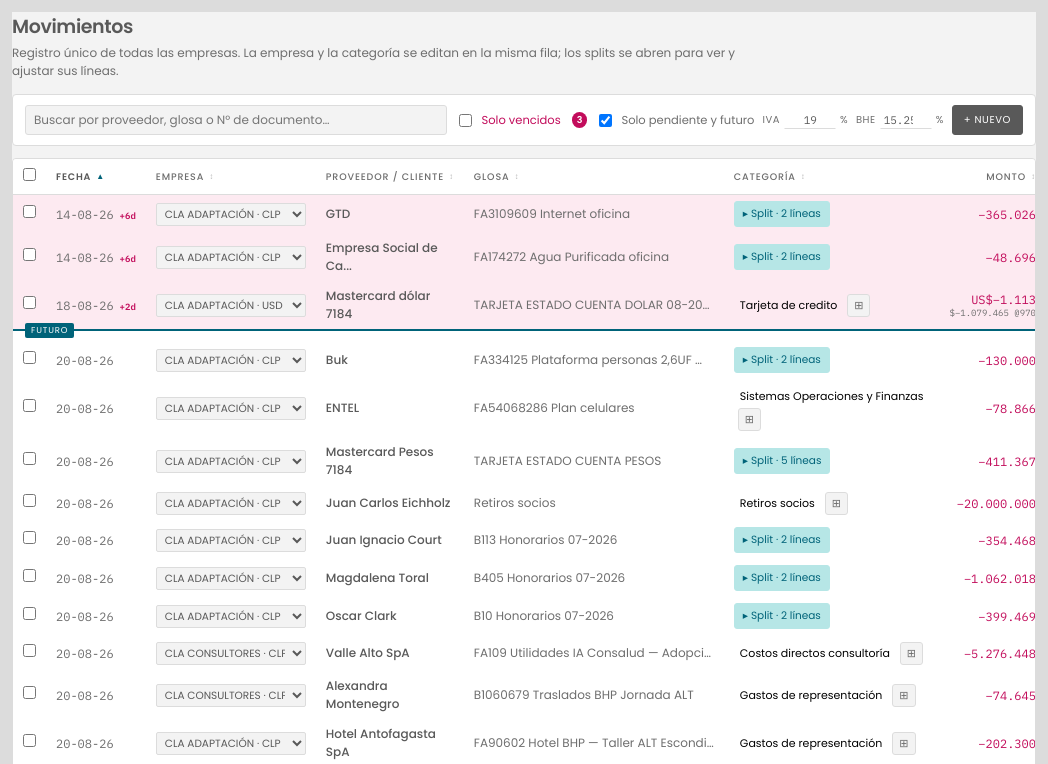
Scenario: Seleccionar y sumar › shift + flechas extiende sin tocar el mouse
Click the checkbox named "Seleccionar GTD del 14-08-26" at (30, 212), box [23,205,36,218]
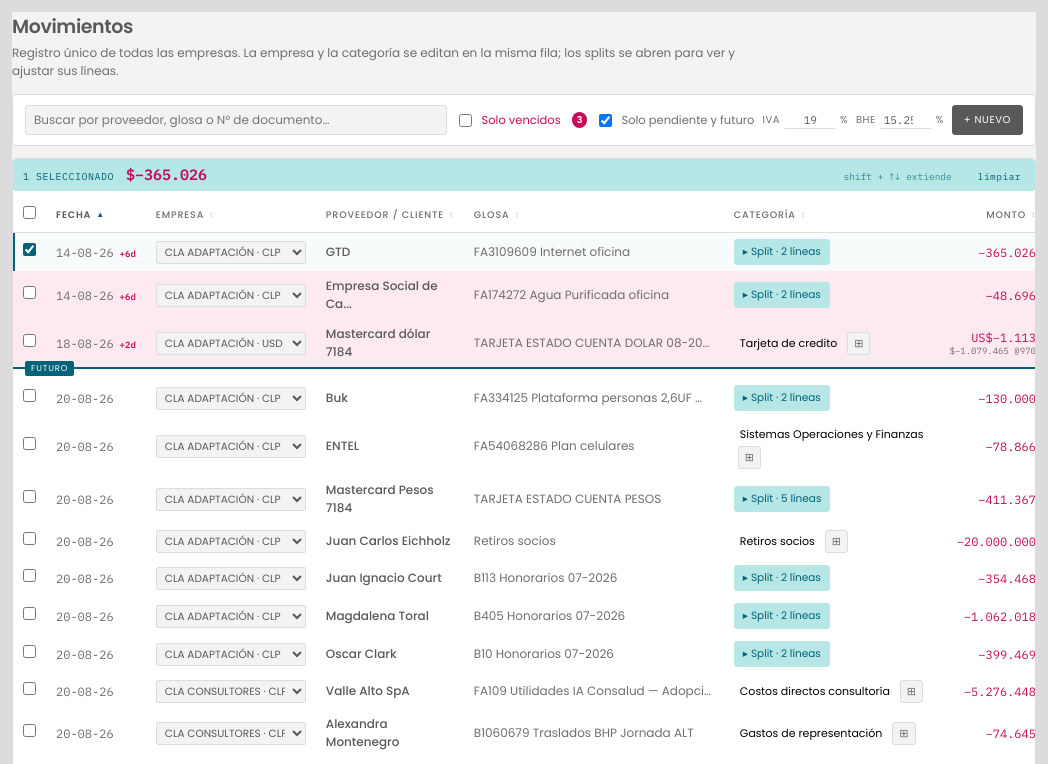
Press ArrowDown in the checkbox named "Seleccionar GTD del 14-08-26", box [23,243,36,256]
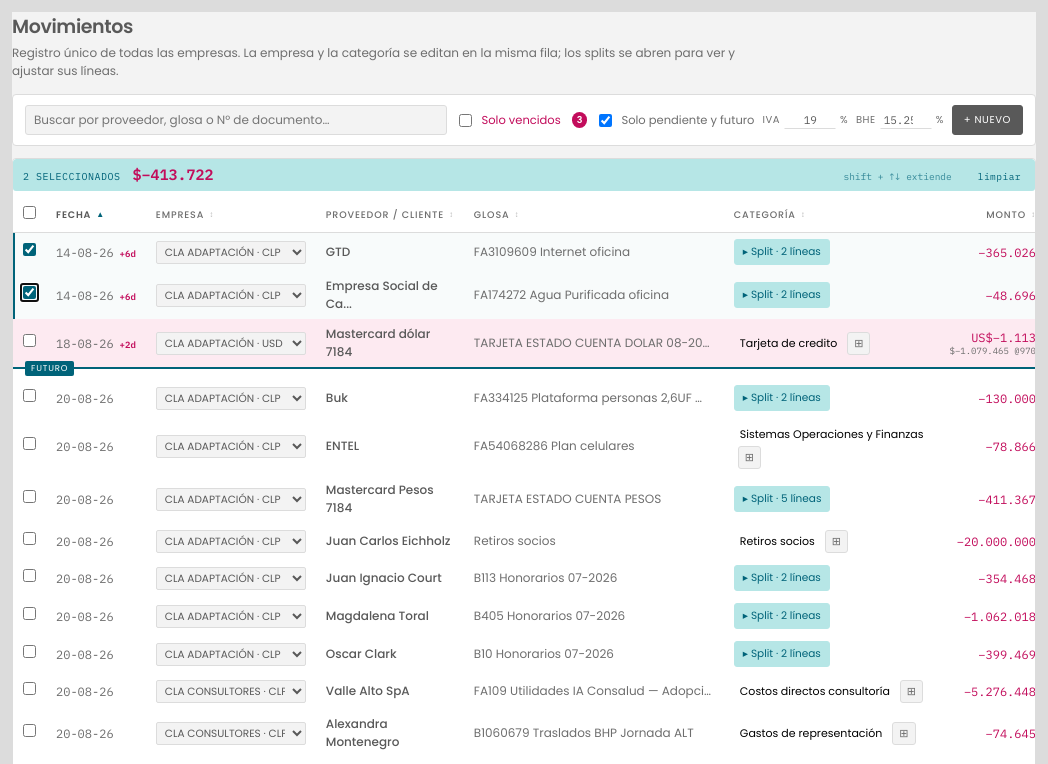
Press ArrowDown in the checkbox named "Seleccionar Empresa Social de Ca... del 14-08-26", box [23,286,36,299]
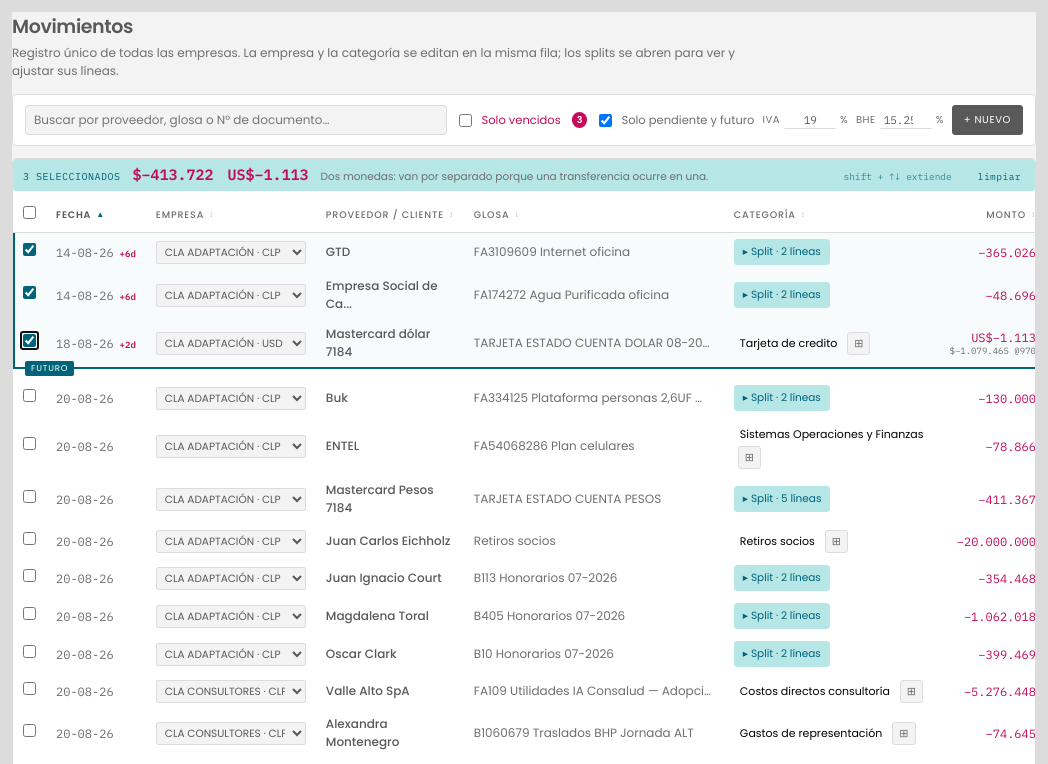
Result: the message shows "3 seleccionados" at [13,159,1035,191]
